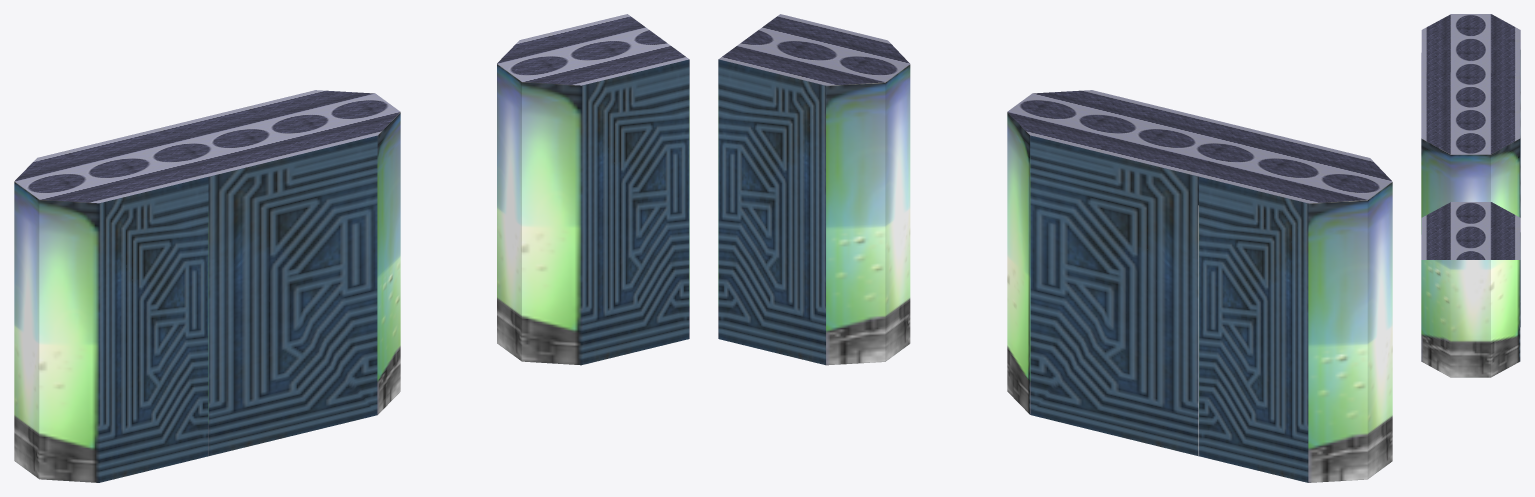
The model's file is thingy.glb.
The picture shows the model from 3 angles, left to right: view 1: azimuth 30°, elevation 25°; view 2: azimuth 150°, elevation 25°; view 3: azimuth 270°, elevation 25°; orthographic projection. The views are drawn at different scales.
Parts seen in each view (by area): view 1: thingy; view 2: thingy; view 3: thingy.
Boxes of the visible parts, x1,y1,x2,y2 form: thingy: (14,14,689,482); thingy: (718,14,1392,482); thingy: (1421,14,1520,377).
Bounding box in the file's own units: 1632 × 691 × 279.
Materials: 2 (2 with a texture image).
